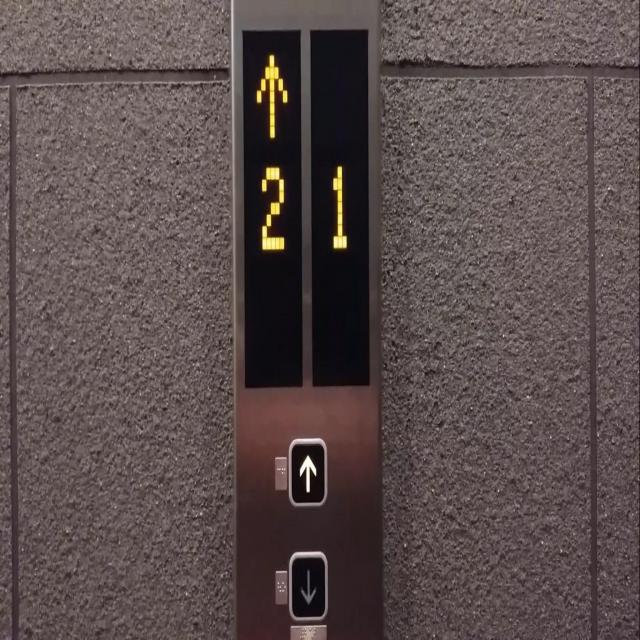down: (289, 552, 327, 620)
led: (238, 21, 304, 392), (307, 24, 373, 391)
up: (288, 437, 326, 506)
